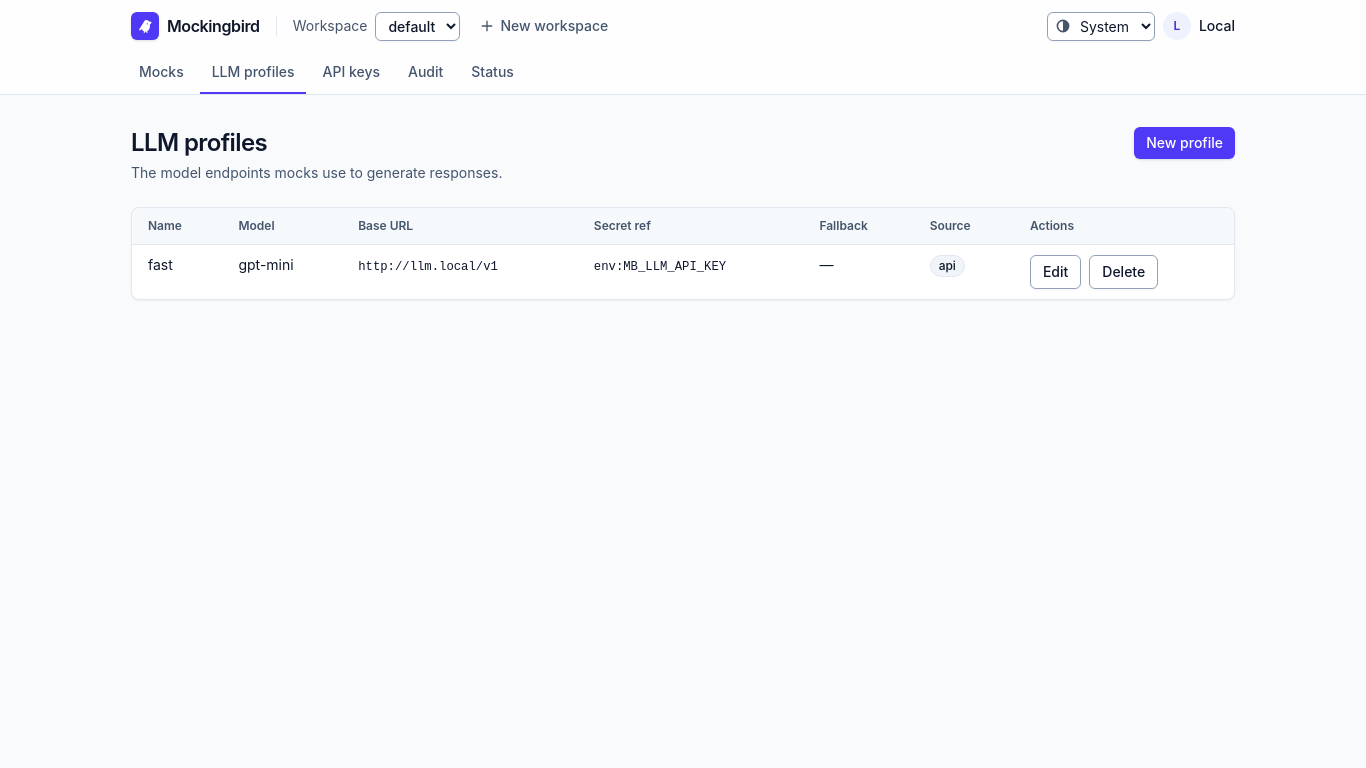
Scenario: llm profiles › delete asks first and shows the warnings
The width and height of the screenshot is (1366, 768).
Click the button with aria-label "Delete fast".
click(1124, 272)  # box x1=1089 y1=255 x2=1158 y2=289
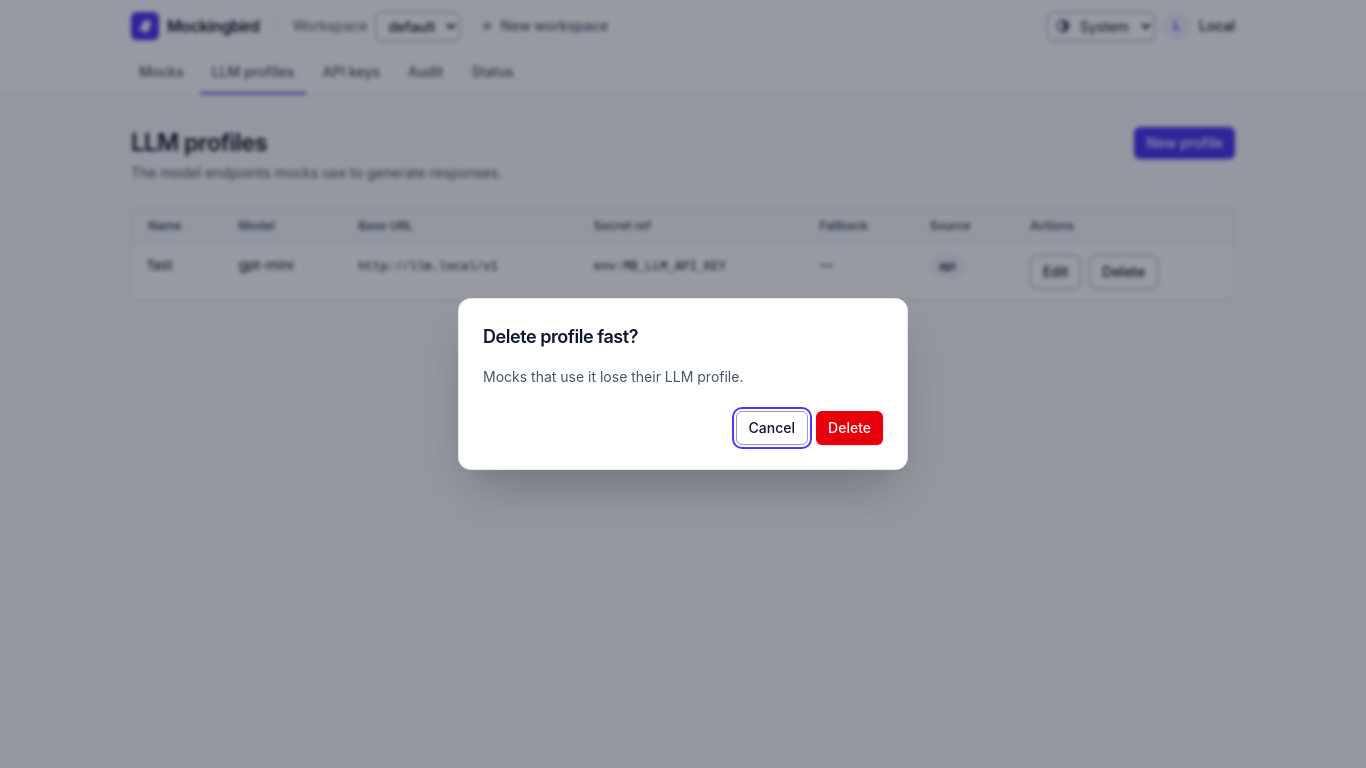
Click the button "Delete".
click(850, 428)  # box x1=816 y1=411 x2=883 y2=445
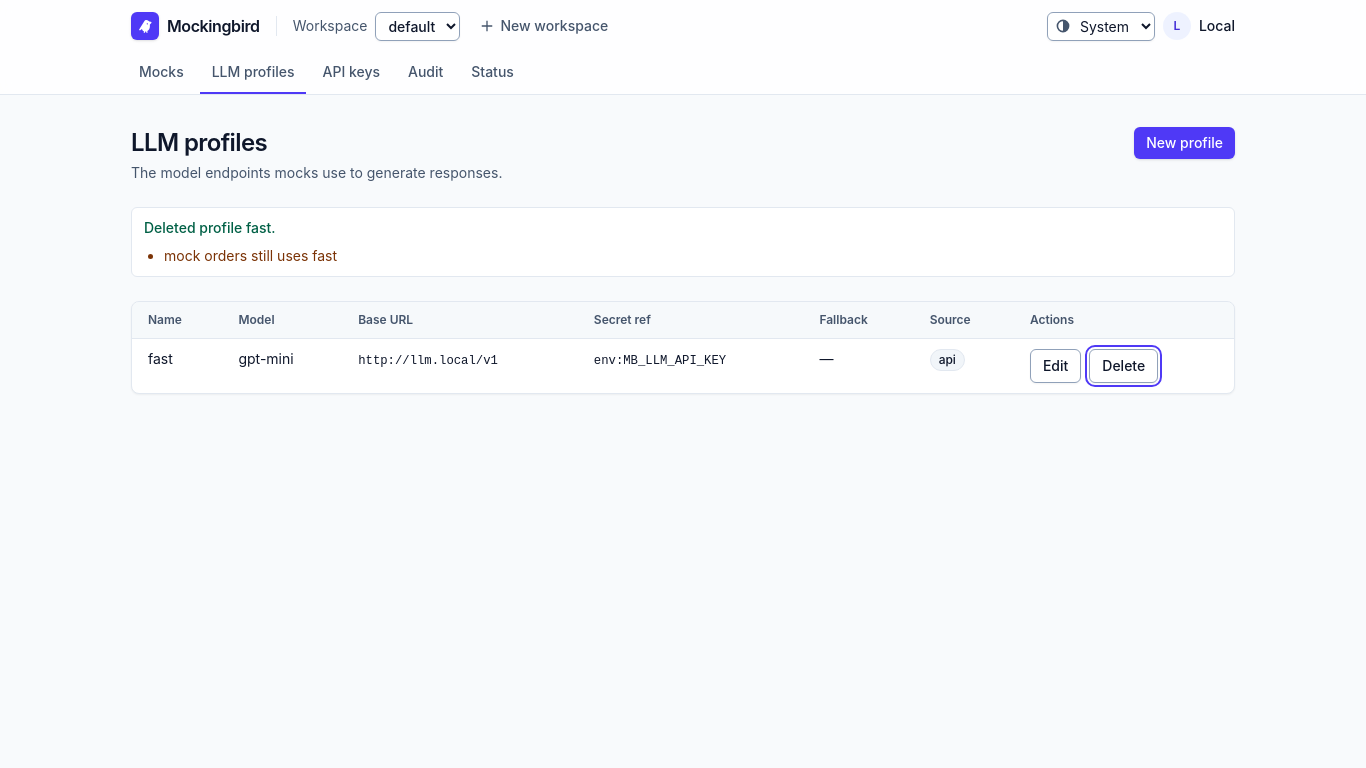
Now the message shows "mock orders still uses fast", box x1=164 y1=247 x2=337 y2=264
